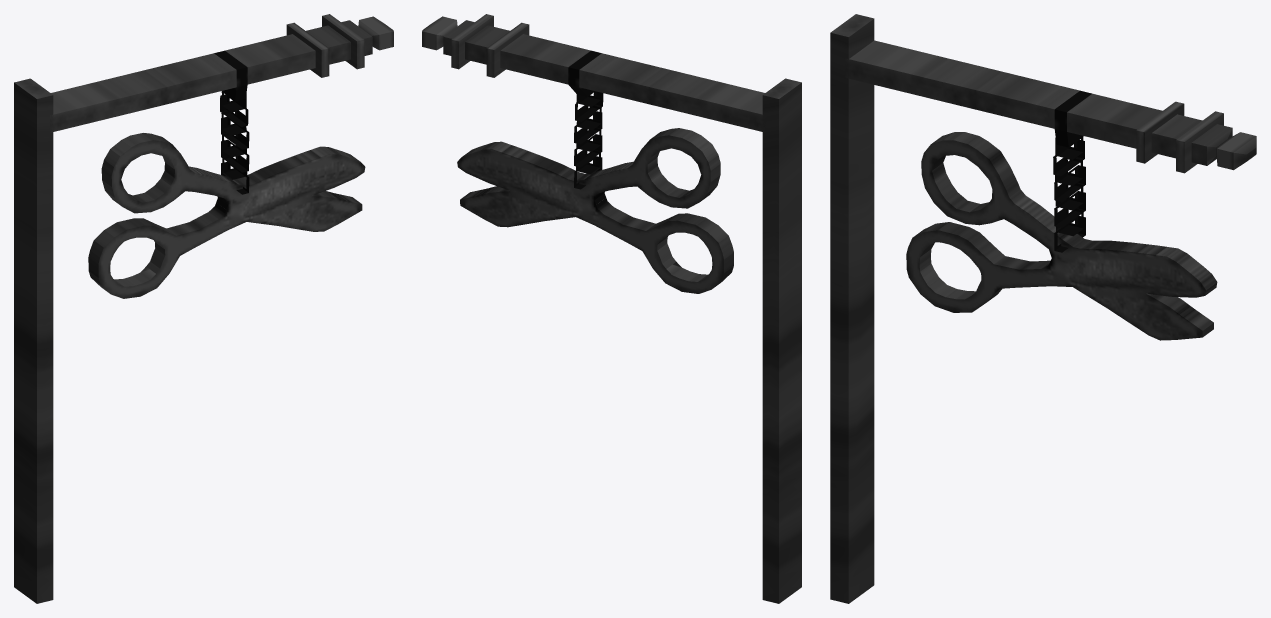
The model's file is sign_360x05.obj.
3 renders of one model, left to right at view 1: azimuth 30°, elevation 25°; view 2: azimuth 150°, elevation 25°; view 3: azimuth 330°, elevation 25°, orthographic. The views are drawn at different scales.
Parts seen in each view (by area): view 1: Sign_360x5; view 2: Sign_360x5; view 3: Sign_360x5.
Boxes of the visible parts, left/top/right/bottom form: Sign_360x5: left=14, top=14, right=393, bottom=603; Sign_360x5: left=422, top=14, right=801, bottom=603; Sign_360x5: left=830, top=14, right=1256, bottom=603.
Bounding box in the file's own units: 2.93 × 3.89 × 0.4887.
